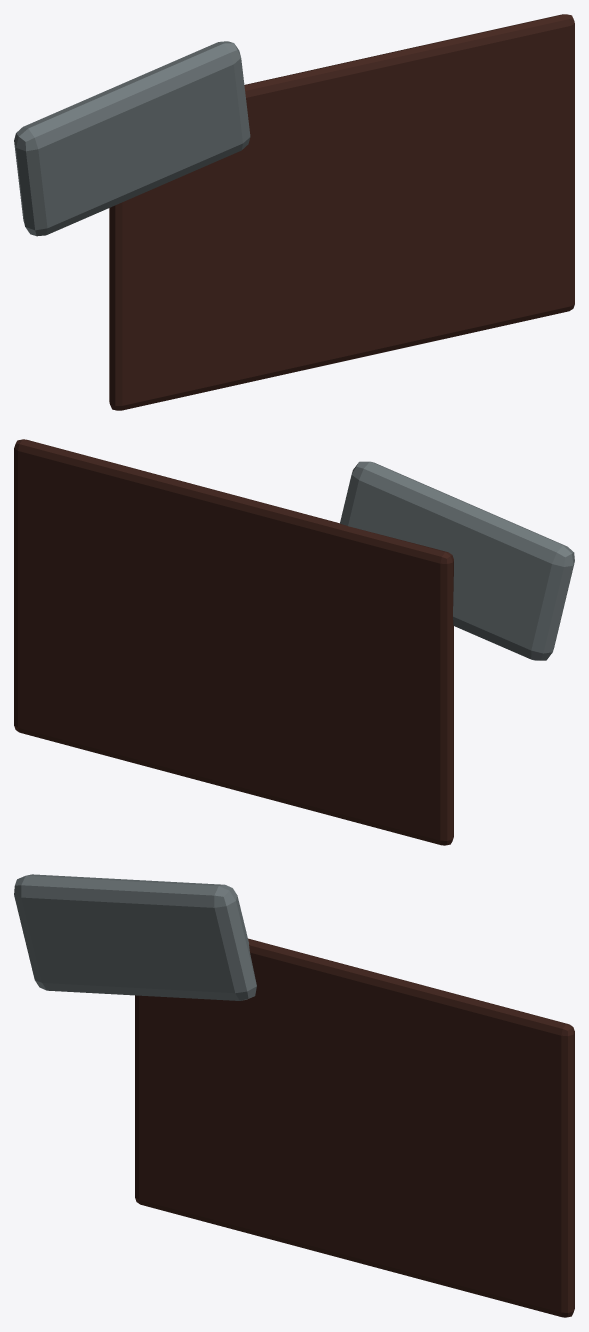
The model's file is Damage_ScorchedPanel_L.glb.
3 renders of one model, top to bottom at view 1: azimuth 30°, elevation 25°; view 2: azimuth 150°, elevation 25°; view 3: azimuth 330°, elevation 25°, orthographic.
Visible parts, largest first — view 1: Damage_ScorchedPanel_L, Damage_ScorchedPanel_L_Warp; view 2: Damage_ScorchedPanel_L, Damage_ScorchedPanel_L_Warp; view 3: Damage_ScorchedPanel_L, Damage_ScorchedPanel_L_Warp.
Part boxes in pixels (x1,y1,x2,y2): Damage_ScorchedPanel_L: (109, 14, 574, 410); Damage_ScorchedPanel_L_Warp: (14, 41, 250, 236); Damage_ScorchedPanel_L: (14, 439, 453, 845); Damage_ScorchedPanel_L_Warp: (340, 461, 574, 660); Damage_ScorchedPanel_L: (135, 938, 574, 1317); Damage_ScorchedPanel_L_Warp: (14, 874, 256, 1000).
Size of the model in its own units: 0.9898 by 0.599 by 0.0812.
